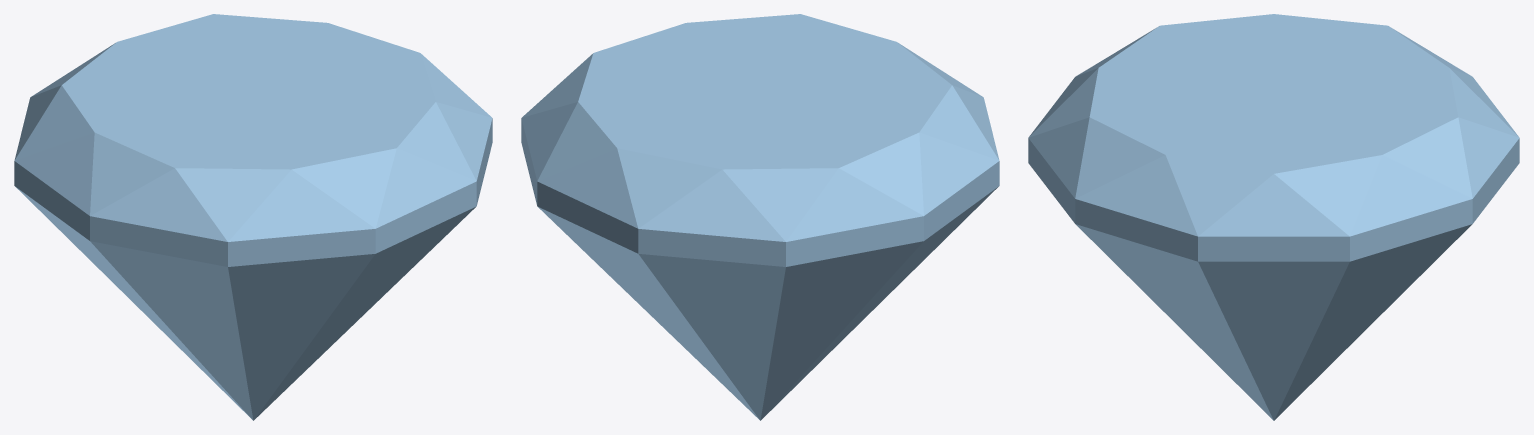
File: collectible_diamond.glb
3 views of the same model, side by side, from view 1: azimuth 30°, elevation 25°; view 2: azimuth 150°, elevation 25°; view 3: azimuth 270°, elevation 25° (orthographic).
Visible parts, largest first — view 1: Diamond; view 2: Diamond; view 3: Diamond.
Part boxes in pixels (bbox=[...]): Diamond: bbox=[14, 14, 492, 420]; Diamond: bbox=[521, 14, 999, 420]; Diamond: bbox=[1028, 14, 1519, 420].
Size of the model in its own units: 0.6884 by 0.5347 by 0.7238.
